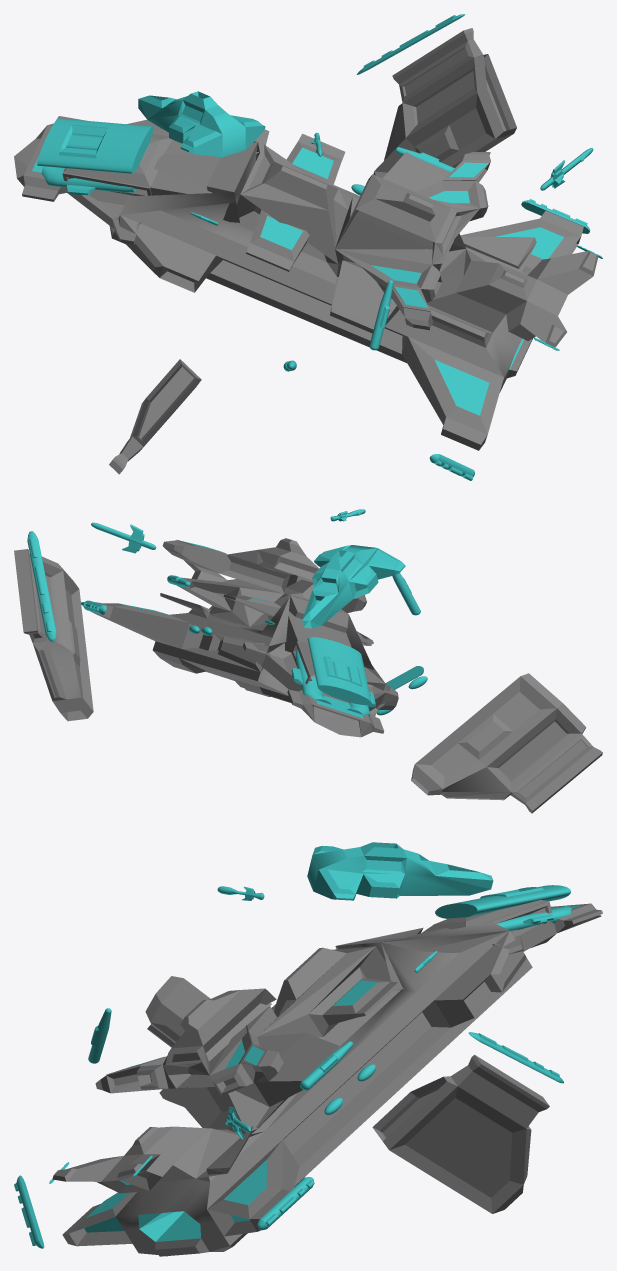
Rendered from EpaveMoyen.fbx.
3 renders of one model, top to bottom at view 1: azimuth 30°, elevation 25°; view 2: azimuth 150°, elevation 25°; view 3: azimuth 270°, elevation 25°, orthographic. The views are drawn at different scales.
Visible parts, largest first — view 1: EpaveMid; view 2: EpaveMid; view 3: EpaveMid.
Boxes of the visible parts, x1,y1,x2,y2 form: EpaveMid: [14, 14, 602, 480]; EpaveMid: [14, 509, 602, 813]; EpaveMid: [14, 842, 602, 1256].
Bounding box in the file's own units: 9.81 × 8.47 × 5.38.
